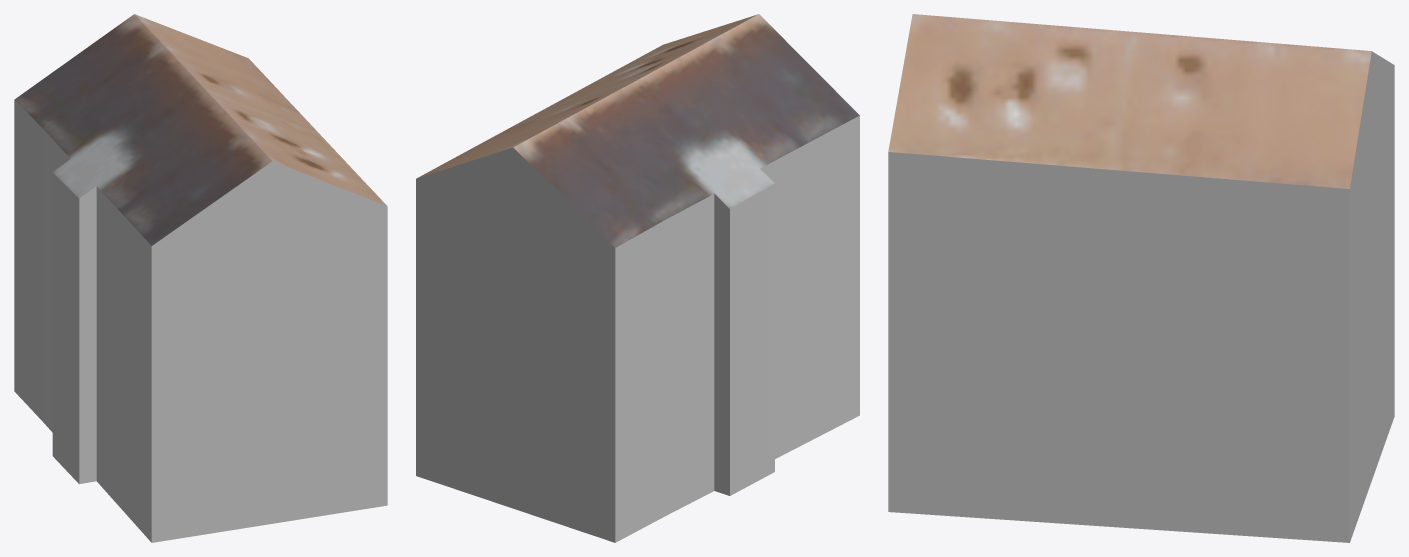
Rendered from DEBW_0010007Txht.gltf.
3 views of the same model, side by side, from view 1: azimuth 30°, elevation 25°; view 2: azimuth 150°, elevation 25°; view 3: azimuth 270°, elevation 25° (orthographic). The views are drawn at different scales.
Visible parts, largest first — view 1: Z_UP; view 2: Z_UP; view 3: Z_UP.
Boxes of the visible parts, <box> form: Z_UP: <box>14,14,387,542</box>; Z_UP: <box>416,14,859,542</box>; Z_UP: <box>888,14,1394,542</box>.
Size of the model in its own units: 12.96 by 16.75 by 17.62.
2 materials, 1 textured.
